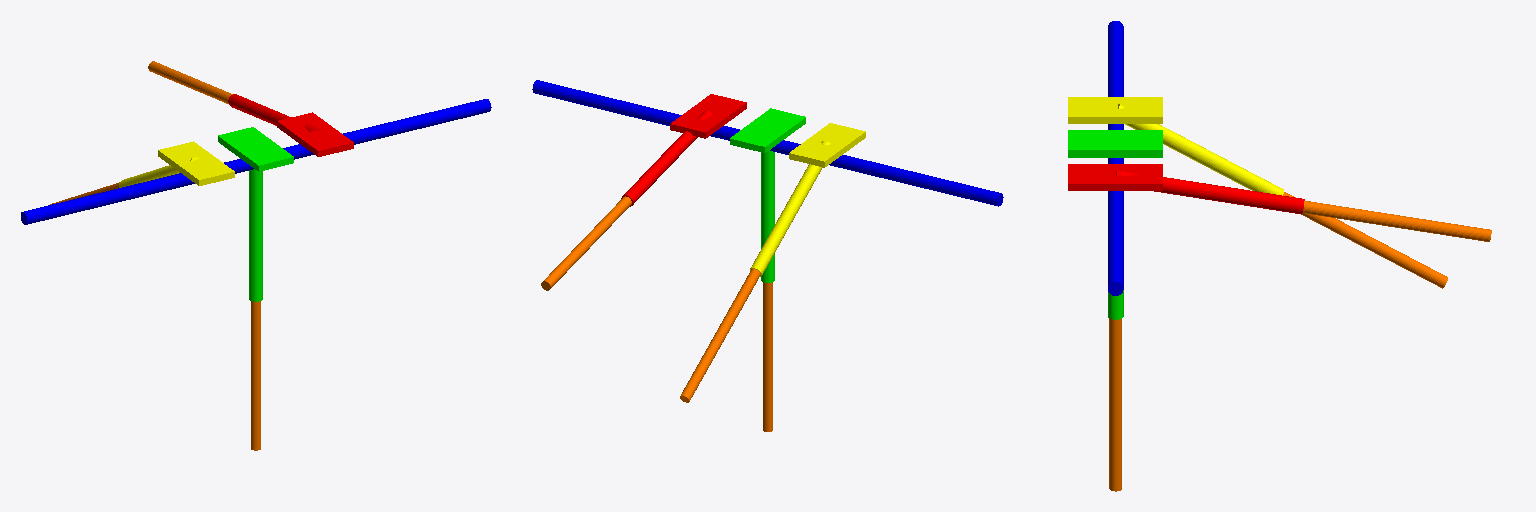
robot.urdf — Tripteron:
<!-- Description: URDF file for the Single Rail Tripteron robot -->
<!-- Radians 90 degrees = 1.5708, 180 degrees = 3.1416, 270 degrees = 4.7124, 360 degrees = 6.2832. 60 degrees = 1.0472, 120 degrees = 2.0944, 240 degrees = 4.1888, 300 degrees = 5.2359 -->

<robot name="Tripteron">

<material name="red">
    <color rgba="1 0 0 1"/> <!-- Red -->
</material>

<material name="blue">
    <color rgba="0 0 1 1"/> <!-- Blue -->
</material>

<material name="green">
    <color rgba="0 1 0 1"/> <!-- Green -->
</material>

<material name="yellow">
    <color rgba="1 1 0 1"/> <!-- Yellow -->
</material>

<material name="orange">
    <color rgba="1 0.5 0 1"/> <!-- Orange -->
</material>



<!-- Base Link - 390mm Rail -->
<link name="base_link">
    <visual>
        <origin xyz="0 0 0.2" rpy="1.5708 0 1.5708"/>
        <geometry>
        <cylinder length="3.9" radius="0.05"/>
        </geometry>
        <material name="blue"/>
    </visual>
</link>

<!-- Link 1 - Left Most platform, slider mate to base link -->
<link name="link1">
    <visual>
        <origin xyz="0.5 0 0.3" rpy="0 0 0"/>
        <geometry>
        <box size="0.3 0.6 0.05"/>
        </geometry>
        <material name="red"/>
    </visual>
    <collision>
        <origin xyz="0.5 0 0.3" rpy="0 0 0"/>
        <geometry>
         <box size="0.3 0.6 0.05"/>
        </geometry>
    </collision>
</link>

<!-- Link 2 - Mid platform, slider mate to base link -->
<link name="link2">
    <visual>
        <origin xyz="0 0 0.3" rpy="0 0 0"/>
        <geometry>
        <box size="0.3 0.6 0.05"/>
        </geometry>
        <material name="green"/>
    </visual>
    <collision>
        <origin xyz="0 0 0.3" rpy="0 0 0"/>
        <geometry>
         <box size="0.3 0.6 0.05"/>
        </geometry>
    </collision>
</link>

<!-- Link 3 - Right Most platform, slider mate to base link -->
<link name="link3">
    <visual>
        <origin xyz="-0.5 0 0.3" rpy="0 0 0"/>
        <geometry>
        <box size="0.3 0.6 0.05"/>
        </geometry>
        <material name="yellow"/>
    </visual>
    <collision>
        <origin xyz="-0.5 0 0.3" rpy="0 0 0"/>
        <geometry>
         <box size="0.3 0.6 0.05"/>
        </geometry>
    </collision>
</link>

<!-- Link 4 - Left Most arm lower link -->
<link name="link4">
    <visual>
        <!-- Shift cylinder half its length downwards along z-axis -->
        <origin xyz="0 0 -0.6" rpy="0 0 0"/>
        <geometry>
            <cylinder length="1.2" radius="0.05"/>
        </geometry>
        <material name="red"/>
    </visual>
    <collision>
        <origin xyz="0 0 -0.6" rpy="0 0 0"/>
        <geometry>
            <cylinder length="1.2" radius="0.05"/>
        </geometry>
    </collision>
</link>

<!-- Link 5 - Right Most arm lower link -->
<link name="link5">
    <visual>
        <!-- Shift cylinder half its length downwards along z-axis -->
        <origin xyz="0 0 -0.6" rpy="0 0 0"/>
        <geometry>
            <cylinder length="1.2" radius="0.05"/>
        </geometry>
        <material name="yellow"/>
    </visual>
    <collision>
        <origin xyz="0 0 -0.6" rpy="0 0 0"/>
        <geometry>
            <cylinder length="1.2" radius="0.05"/>
        </geometry>
    </collision>
</link>


<!-- Link 6 - Center platform arm -->
<link name="link6">
    <visual>
        <!-- Shift cylinder half its length downwards along z-axis -->
        <origin xyz="0 0 -0.6" rpy="0 0 0"/>
        <geometry>
            <cylinder length="1.2" radius="0.05"/>
        </geometry>
        <material name="green"/>
    </visual>
    <collision>
        <origin xyz="0 0 -0.6" rpy="0 0 0"/>
        <geometry>
            <cylinder length="1.2" radius="0.05"/>
        </geometry>
    </collision>
</link>

<!-- Second Arms (lower arms) -->
<link name="link7">
    <visual>
        <origin xyz="0 0 -0.6" rpy="0 0 0"/>
        <geometry>
            <cylinder length="1.2" radius="0.04"/>
        </geometry>
        <material name="orange"/>
    </visual>
</link>

<link name="link8">
    <visual>
        <origin xyz="0 0 -0.6" rpy="0 0 0"/>
        <geometry>
            <cylinder length="1.2" radius="0.04"/>
        </geometry>
        <material name="orange"/>
    </visual>
</link>

<link name="link9">
    <visual>
        <origin xyz="0 0 -0.6" rpy="0 0 0"/>
        <geometry>
            <cylinder length="1.2" radius="0.04"/>
        </geometry>
        <material name="orange"/>
    </visual>
</link>








<!-- Joint 1 - 1st slider Joint -->
<joint name="joint1" type="prismatic">
    <origin xyz="0 0 0" rpy="0 0 0"/>
    <parent link="base_link"/>
    <child link="link1"/>
    <axis xyz="1 0 0"/>
    <limit lower="-1.95" upper="1.95"/>
</joint>

<!-- Joint 2 - 2nd slider Joint -->
<joint name="joint2" type="fixed">
    <origin xyz="0 0 0" rpy="0 0 0"/>
    <parent link="base_link"/>
    <child link="link2"/>
    <axis xyz="1 0 0"/>
    <limit lower="-1.95" upper="1.95"/>
</joint>

<!-- Joint 3 - 3rd slider Joint -->
<joint name="joint3" type="prismatic">
    <origin xyz="0 0 0" rpy="0 0 0"/>
    <parent link="base_link"/>
    <child link="link3"/>
    <axis xyz="1 0 0"/>
    <limit lower="-1.95" upper="1.95"/>
</joint>

<!-- Joint 4 - 1st Revolute Joint -->
<joint name="joint4" type="revolute">
    <origin xyz="0.5 0 0.3" rpy="1.4 0 0"/>
    <parent link="link1"/>
    <child link="link4"/>
    <axis xyz="1 1 0"/>
    <limit lower="0" upper="6.2832"/>
</joint>

<!-- Joint 5 - Right platform revolute joint -->
<joint name="joint5" type="revolute">
    <origin xyz="-0.5 0 0.3" rpy="1.0472 0 0"/>
    <parent link="link3"/>
    <child link="link5"/>
    <axis xyz="1 -1 0"/> <!-- mirror symmetric to link4 axis -->
    <limit lower="0" upper="6.2832"/>
</joint>

<!-- Joint 6 - Middle platform revolute joint (50 degrees offset in YZ plane) -->
<joint name="joint6" type="revolute">
    <origin xyz="0 0 0.3" rpy="0 0 0.8727 "/>
    <parent link="link2"/>
    <child link="link6"/>
    <axis xyz="1 0 0"/>
    <limit lower="-3.1416" upper="3.1416"/>
</joint>

<!-- Joints attaching second arms to first arms -->
<joint name="joint7" type="revolute">
    <origin xyz="0 0 -1.2" rpy="0 0 0"/>
    <parent link="link4"/>
    <child link="link7"/>
    <axis xyz="1 0 0"/>
    <limit lower="-3.1416" upper="3.1416"/>
</joint>

<joint name="joint8" type="revolute">
    <origin xyz="0 0 -1.2" rpy="0 0 0"/>
    <parent link="link5"/>
    <child link="link8"/>
    <axis xyz="1 0 0"/>
    <limit lower="-3.1416" upper="3.1416"/>
</joint>

<joint name="joint9" type="revolute">
    <origin xyz="0 0 -1.2" rpy="0 0 0"/>
    <parent link="link6"/>
    <child link="link9"/>
    <axis xyz="1 0 0"/>
    <limit lower="-3.1416" upper="3.1416"/>
</joint>



</robot>

--- Facts derived from the render (not from the file) ---
The picture shows the robot from 3 angles, left to right: view 1: azimuth 30°, elevation 25°; view 2: azimuth 150°, elevation 25°; view 3: azimuth 270°, elevation 25°; orthographic projection.
Model Tripteron with 10 links and 9 joints (6 revolute, 2 prismatic, 1 fixed), rooted at base_link, posed all joints at 0.
Visible links, largest first — view 1: base_link, link2, link3, link1, link6, link9, link7, link4, link5; view 2: base_link, link2, link3, link1, link5, link8, link9, link6, link7, link4; view 3: base_link, link2, link3, link1, link7, link4, link9, link5, link8.
Boxes of the visible links, x1,y1,x2,y2 form: base_link: (21, 99, 491, 224); link2: (218, 127, 293, 171); link3: (158, 141, 234, 185); link1: (277, 112, 353, 156); link6: (249, 169, 262, 301); link9: (251, 301, 260, 450); link7: (148, 61, 232, 103); link4: (228, 94, 319, 132); link5: (119, 157, 199, 187); base_link: (532, 80, 1003, 206); link2: (730, 108, 805, 152); link3: (789, 123, 865, 167); link1: (670, 94, 746, 138); link5: (750, 141, 830, 276); link8: (680, 269, 760, 402); link9: (763, 282, 772, 431); link6: (761, 150, 774, 282); link7: (541, 196, 631, 290); link4: (621, 110, 712, 206); base_link: (1108, 21, 1123, 295); link2: (1068, 130, 1162, 157); link3: (1068, 97, 1162, 123); link1: (1068, 164, 1162, 190); link7: (1303, 201, 1491, 241); link4: (1116, 170, 1304, 214); link9: (1109, 318, 1121, 491); link5: (1118, 103, 1283, 195); link8: (1283, 192, 1447, 288).
Size in the robot's own frame: 3.9 by 2.67 by 2.45 metres.
Geometry: primitives only (box / cylinder / sphere), no mesh files.